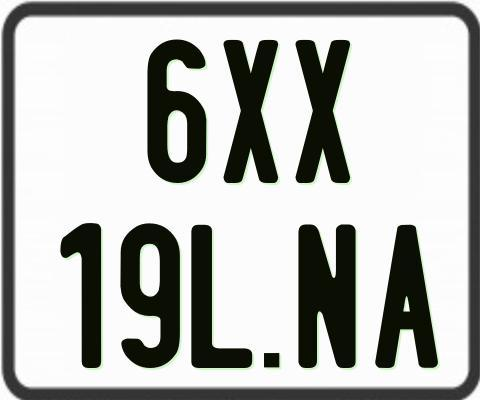1: (60, 221, 106, 366)
6: (144, 37, 209, 186)
9: (117, 222, 183, 367)
A: (372, 223, 435, 366)
L: (188, 224, 254, 370)
N: (297, 222, 358, 367)
X: (296, 38, 356, 187), (223, 37, 283, 184)
